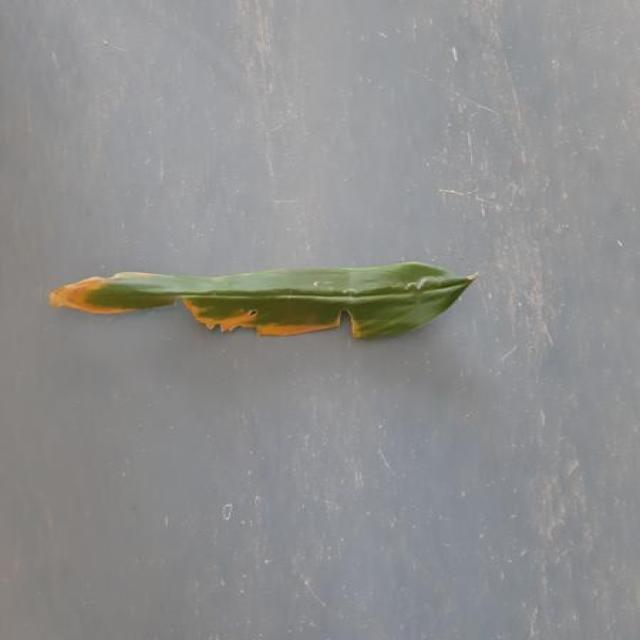leaf: (48, 260, 479, 340)
